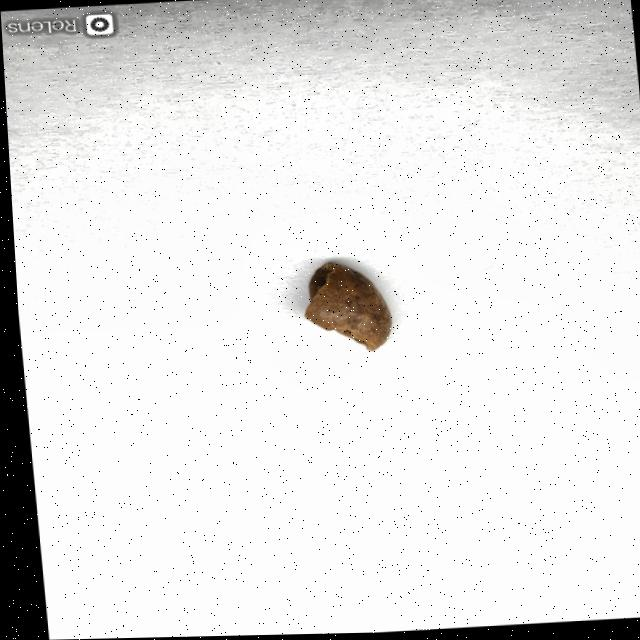Broken: (295, 260, 392, 357)
